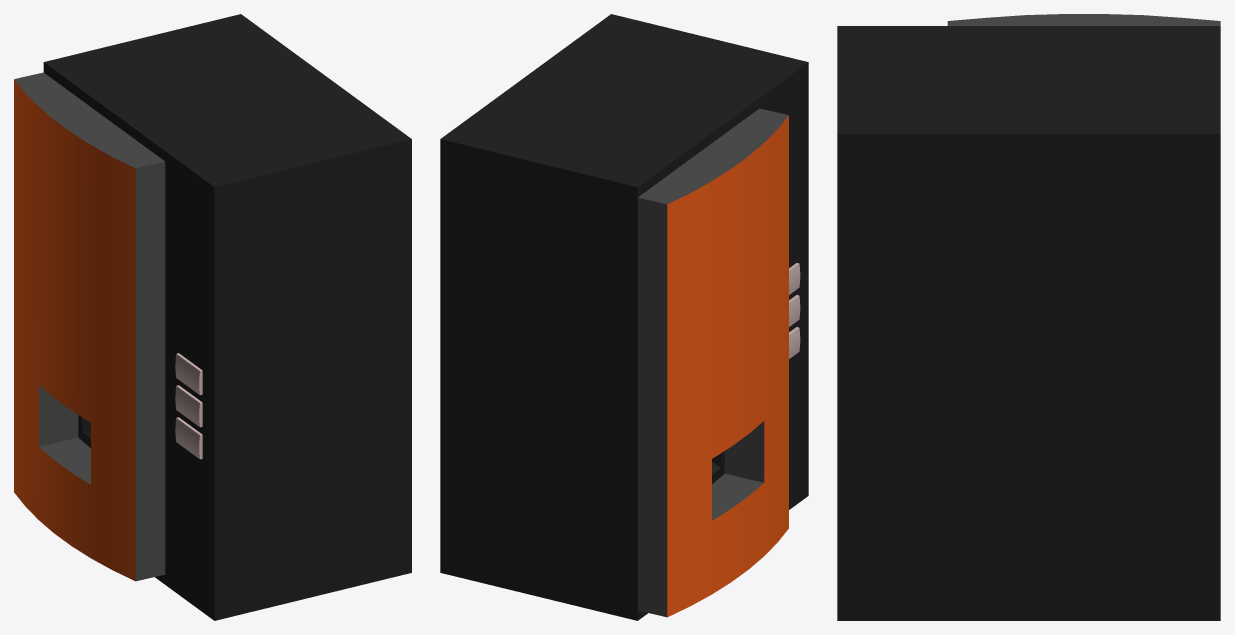
Rendered from vendingmachine.FBX.
3 renders of one model, left to right at view 1: azimuth 30°, elevation 25°; view 2: azimuth 150°, elevation 25°; view 3: azimuth 270°, elevation 25°, orthographic. The views are drawn at different scales.
Parts seen in each view (by area): view 1: Box001; view 2: Box001; view 3: Box001.
Part boxes in pixels (box(x1,y1,x2,y2)): Box001: box(14, 14, 411, 620); Box001: box(440, 14, 808, 620); Box001: box(837, 14, 1220, 620).
Size of the model in its own units: 1.21 by 2.1 by 1.5.
